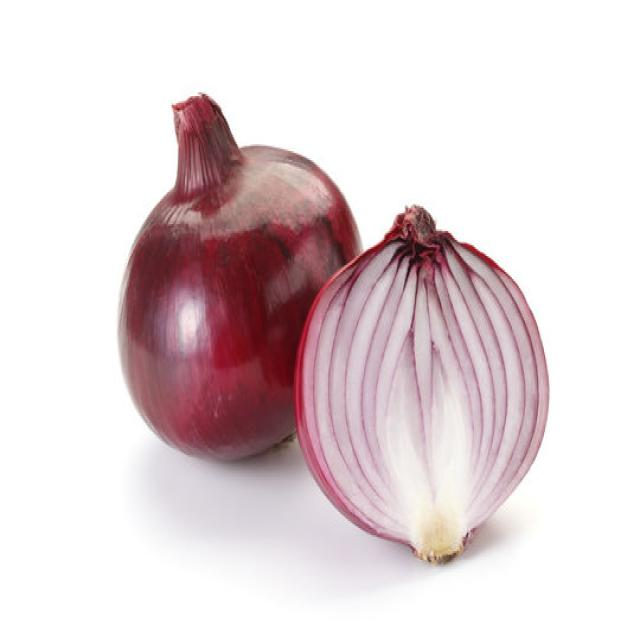Onion: (292, 203, 548, 565), (116, 89, 363, 462)
